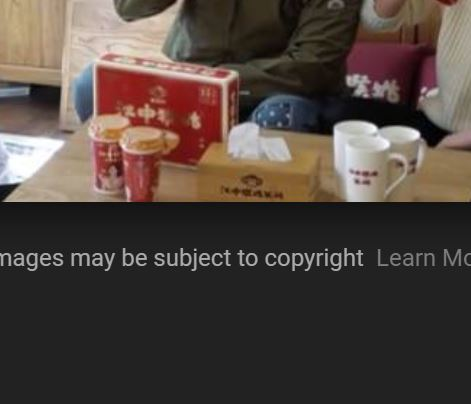box: (93, 51, 232, 166)
cup: (121, 127, 162, 202), (90, 114, 124, 195)
